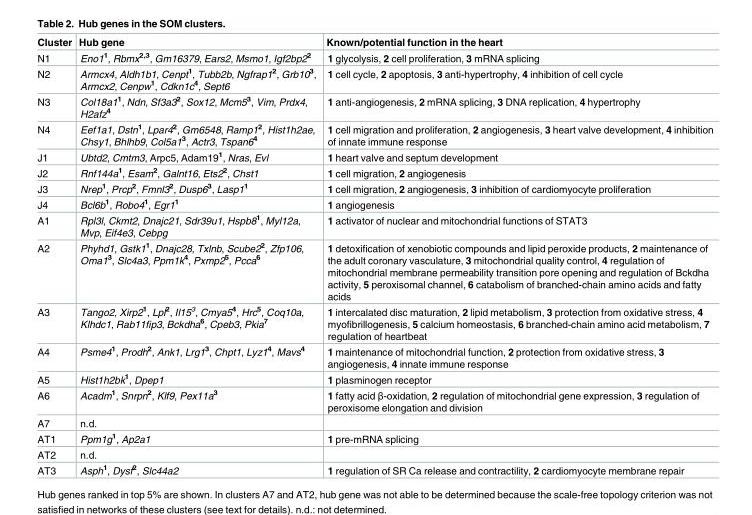table: (36, 37, 712, 475)
table column: (320, 37, 712, 475), (74, 37, 320, 475), (36, 37, 74, 475)
table column header: (36, 37, 712, 49)
table row: (36, 239, 712, 303), (36, 303, 712, 343), (36, 386, 712, 415), (36, 65, 712, 93), (36, 93, 712, 121), (36, 211, 712, 239), (36, 121, 712, 148), (36, 343, 712, 370), (36, 430, 712, 447), (36, 49, 712, 65), (36, 148, 712, 164), (36, 164, 712, 180), (36, 180, 712, 196), (36, 370, 712, 386), (36, 196, 712, 211), (36, 415, 712, 430), (36, 447, 712, 461), (36, 461, 712, 475), (36, 37, 712, 49)
